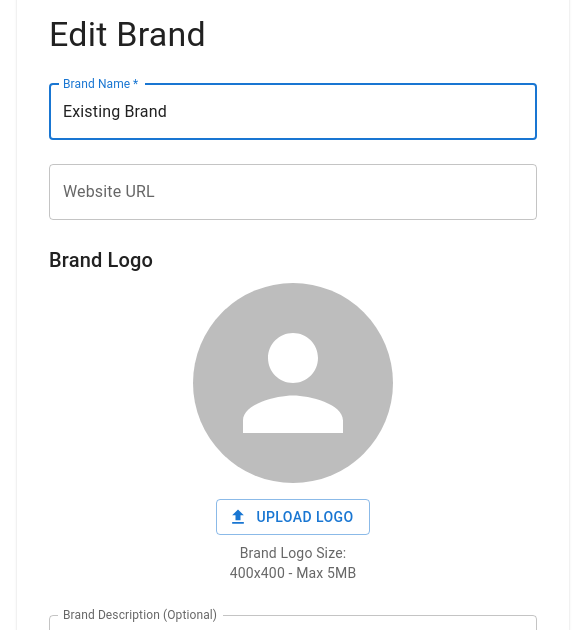
Test: BrandCreateForm › Edit Mode › displays a server error message on update failure
Step 1. Replace the text in the field labelled "Brand Name *" with "Updated Brand Name" → (293, 112), box [49,84,537,140]
(page scrolled)
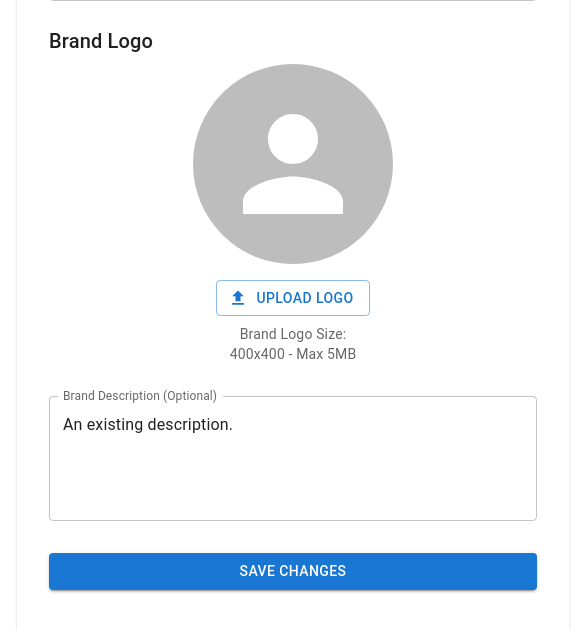
Step 2. Click the button "Save Changes" → (293, 572), box [49,553,537,590]
(page scrolled)
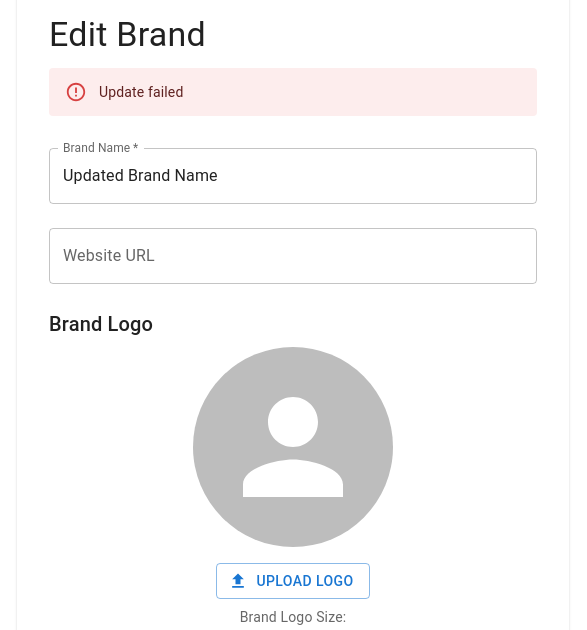
Check: the text "Update failed" is shown, box [99,84,184,100]
